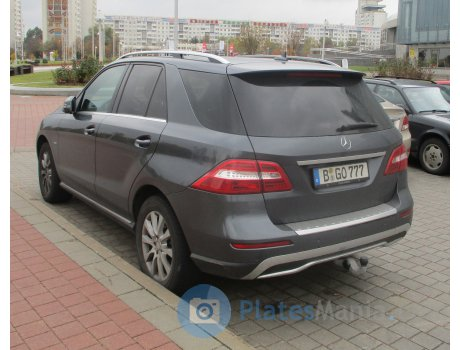License Plates: (319, 165, 375, 178)
